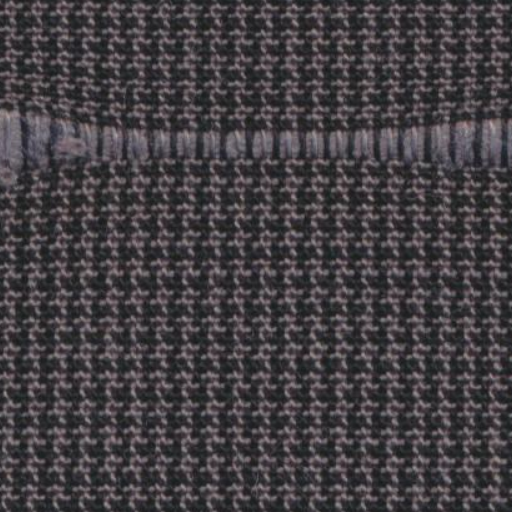DaiSha: (1, 86, 504, 188)
